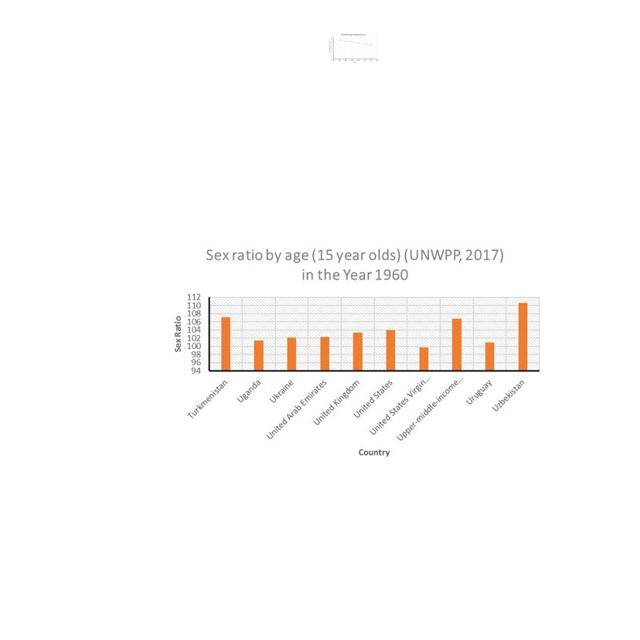Graph: (160, 240, 545, 461), (329, 34, 379, 63)
